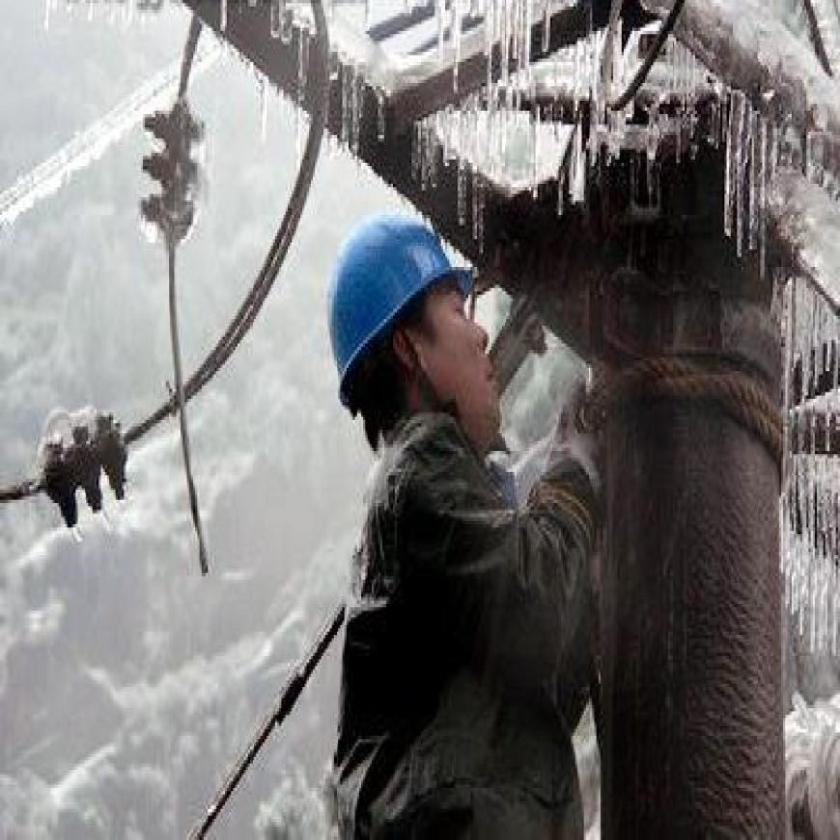Con_casco: (321, 202, 519, 478)
